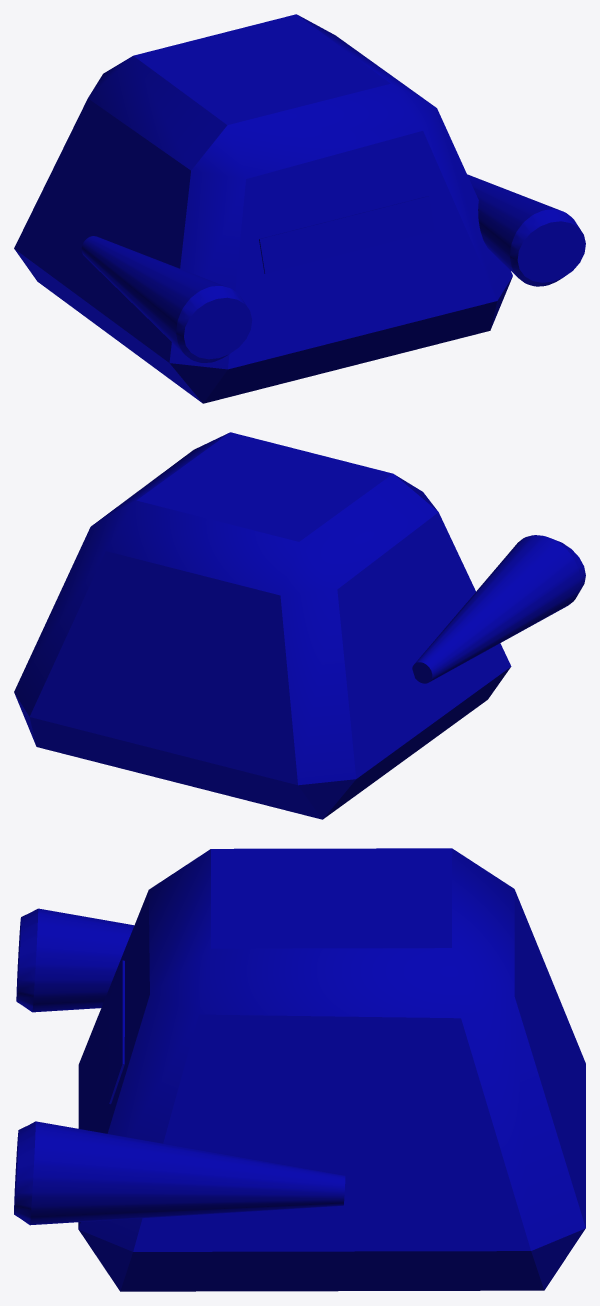
The model's file is Guard.fbx.
3 views of the same model, one above another, from view 1: azimuth 30°, elevation 25°; view 2: azimuth 150°, elevation 25°; view 3: azimuth 270°, elevation 25° (orthographic). The views are drawn at different scales.
Parts seen in each view (by area): view 1: body, arm1, pasted__pCone1, scan; view 2: body, arm1; view 3: body, pasted__pCone1, arm1, scan.
Part boxes in pixels (bbox=[...]): body: bbox=[14, 14, 512, 403]; arm1: bbox=[81, 236, 252, 362]; pasted__pCone1: bbox=[467, 174, 585, 286]; scan: bbox=[259, 196, 434, 273]; body: bbox=[14, 432, 511, 819]; arm1: bbox=[412, 535, 585, 683]; body: bbox=[78, 848, 585, 1291]; pasted__pCone1: bbox=[14, 1121, 345, 1225]; arm1: bbox=[16, 908, 134, 1012]; scan: bbox=[109, 960, 124, 1104].
Size of the model in its own units: 12.45 by 7.09 by 11.95.
